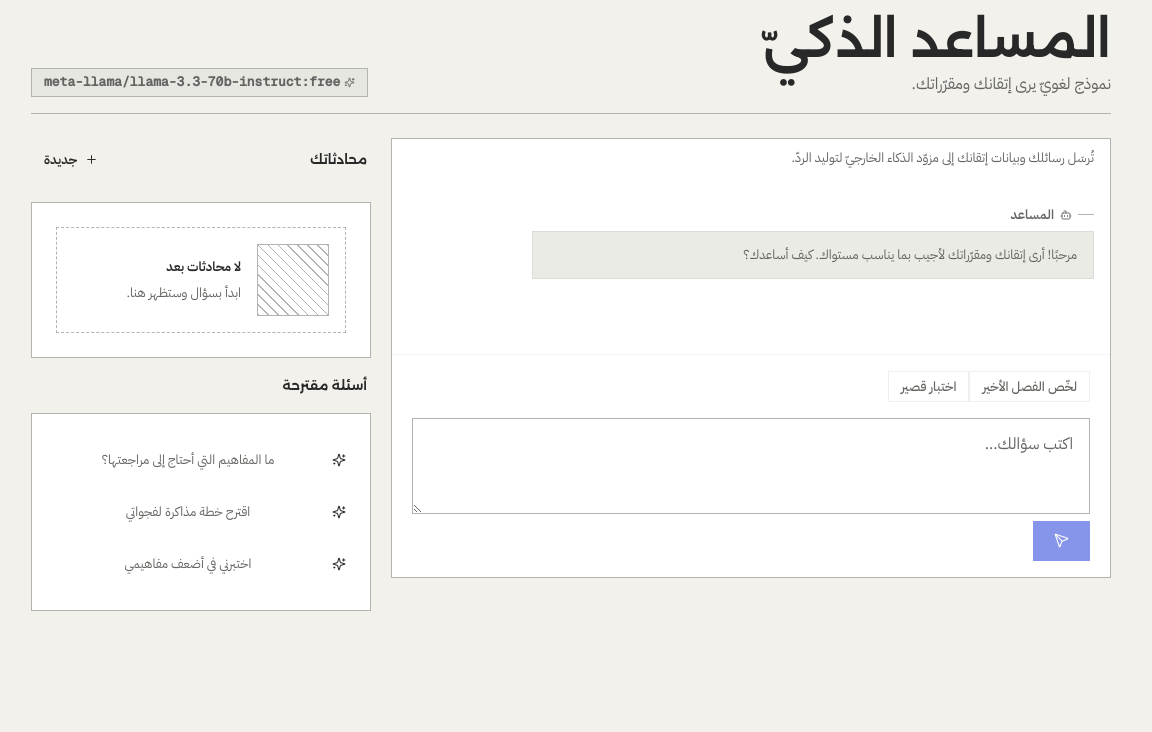
Test: AiAssistantPage — SSE consumption (r323 B1.1) › streams into the bubble incrementally, then the done frame finalizes it (engine tag + feedback armed)
In the text box named "اكتب سؤالك للمساعد": (751, 466) [412,418,1090,514], type "سؤال البثّ"
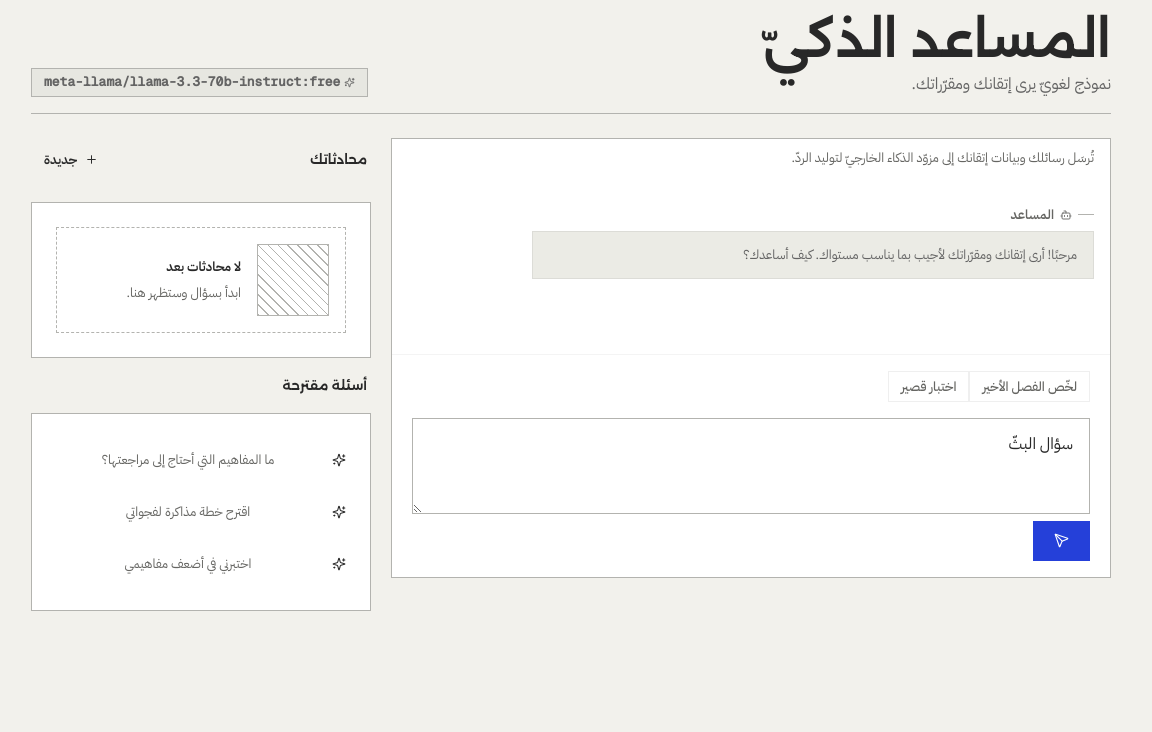
Click the button named "إرسال": (1062, 540) [1033,520,1090,560]
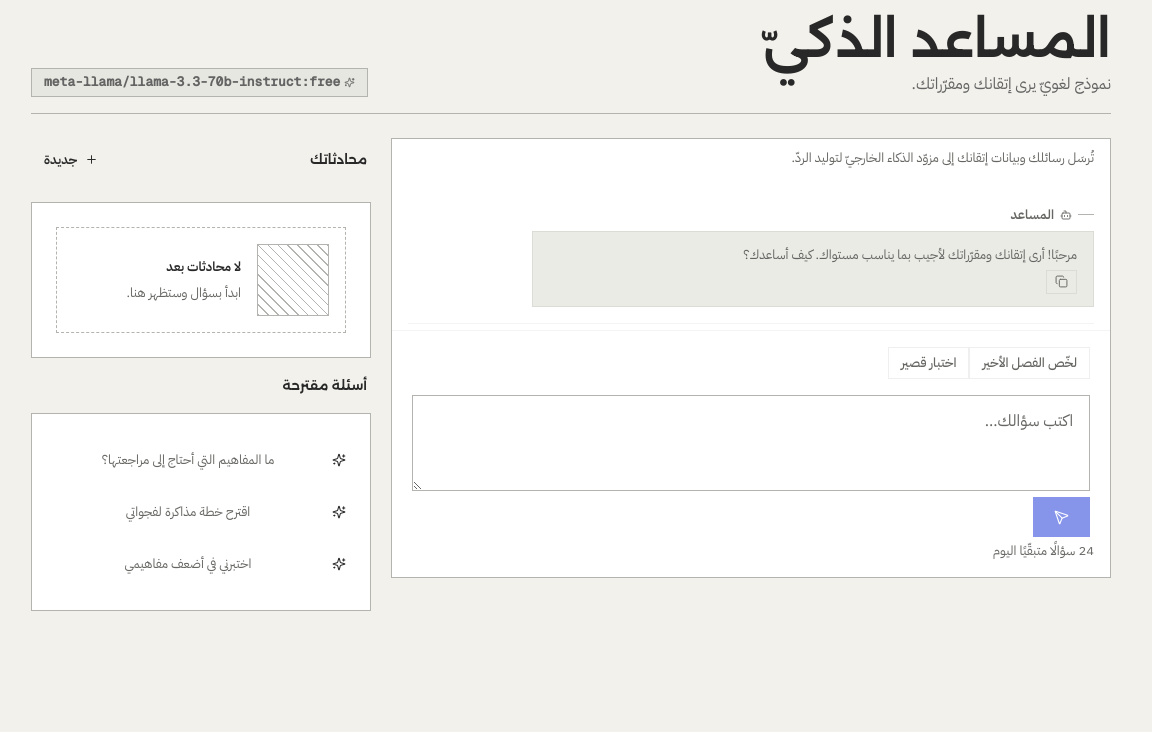
Now the text "24 سؤالًا متبقّيًا اليوم" is shown, box [993,541,1094,560]
